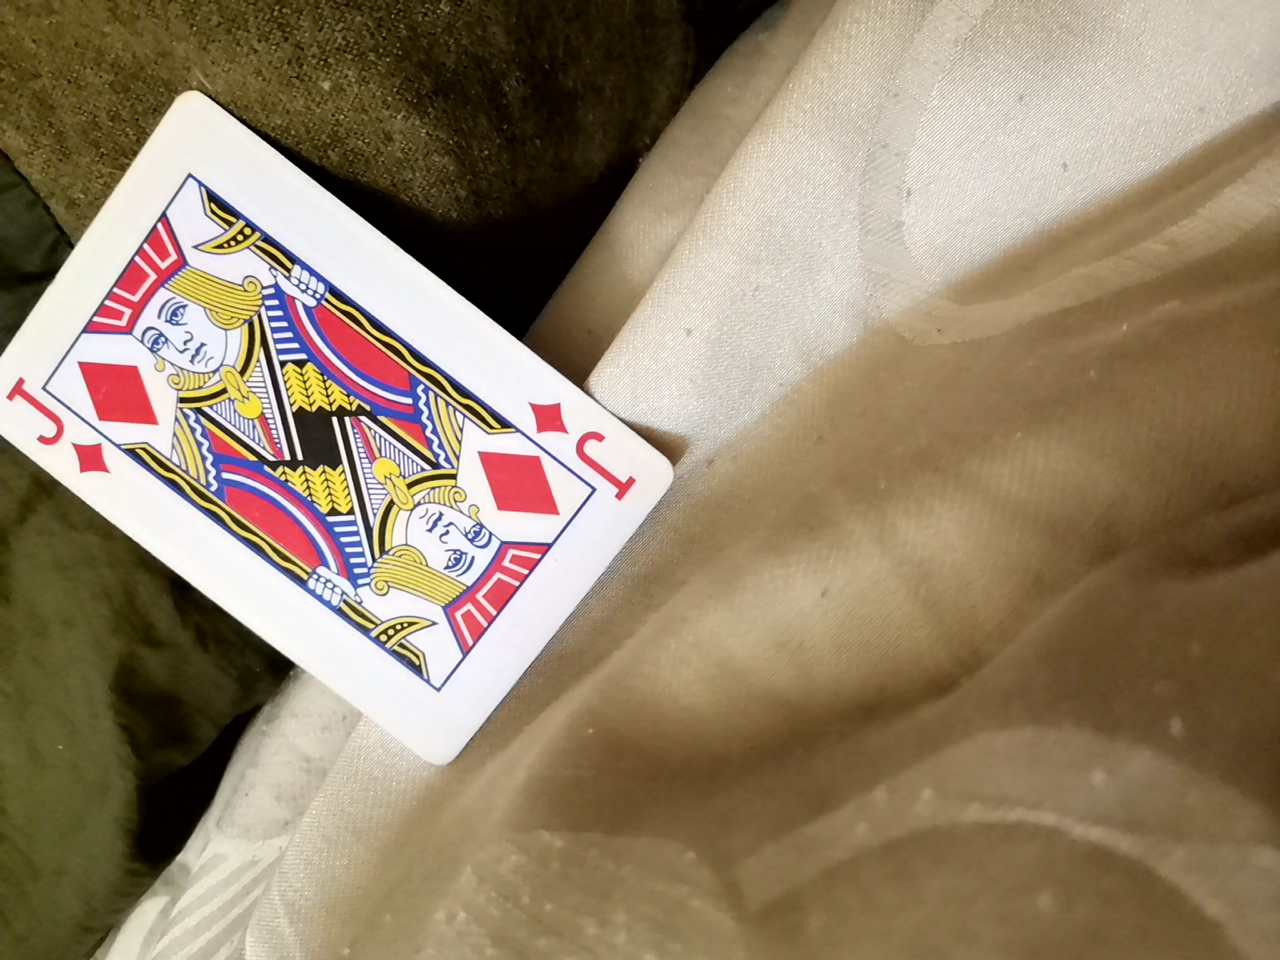fk j: (8, 99, 675, 799)
